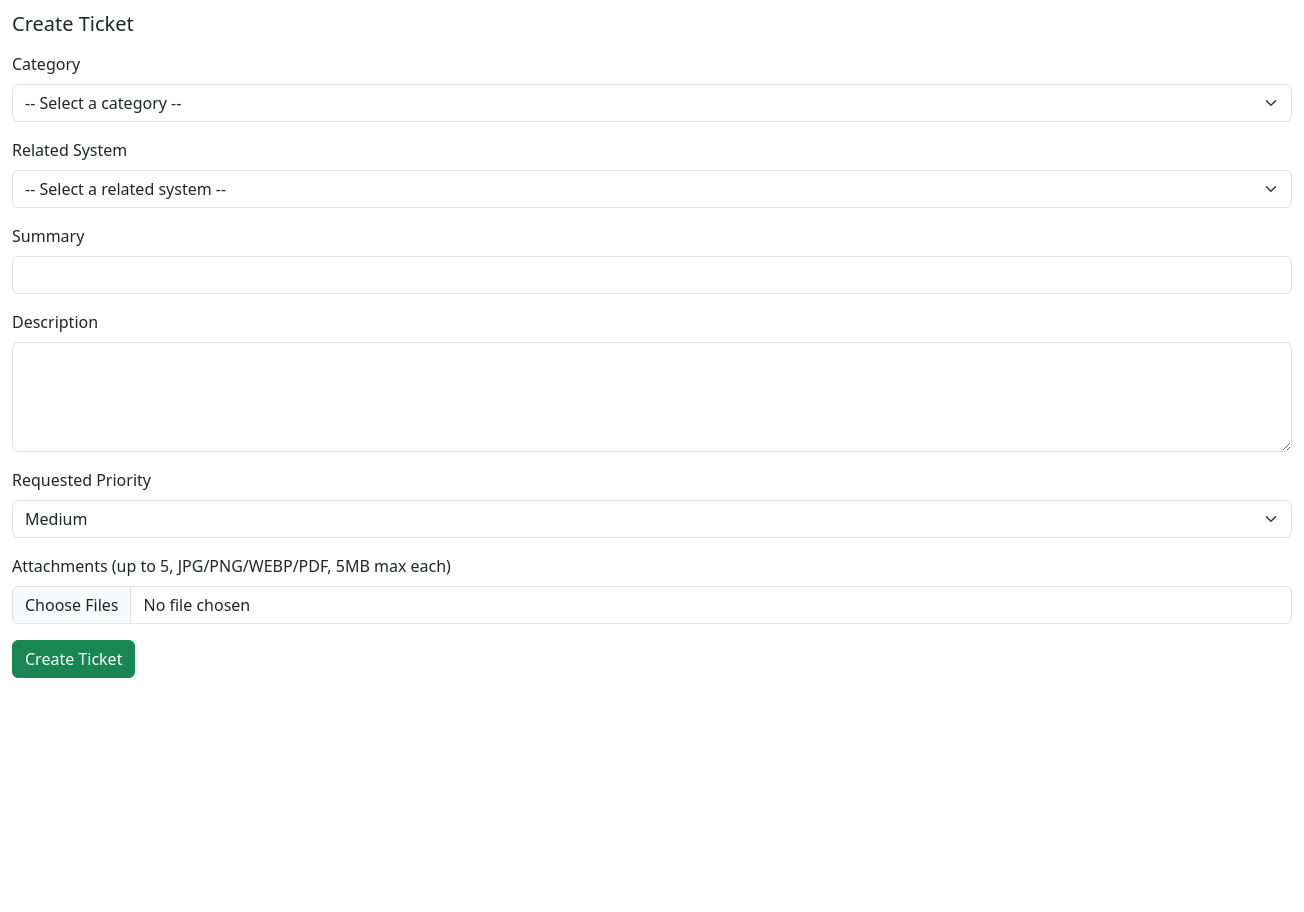
Test: CreateTicket › shows the ticket number on successful submit
Select "Hardware" in the dropdown with test id "create-ticket-category" at coordinates (652, 103), box [12,84,1292,122]
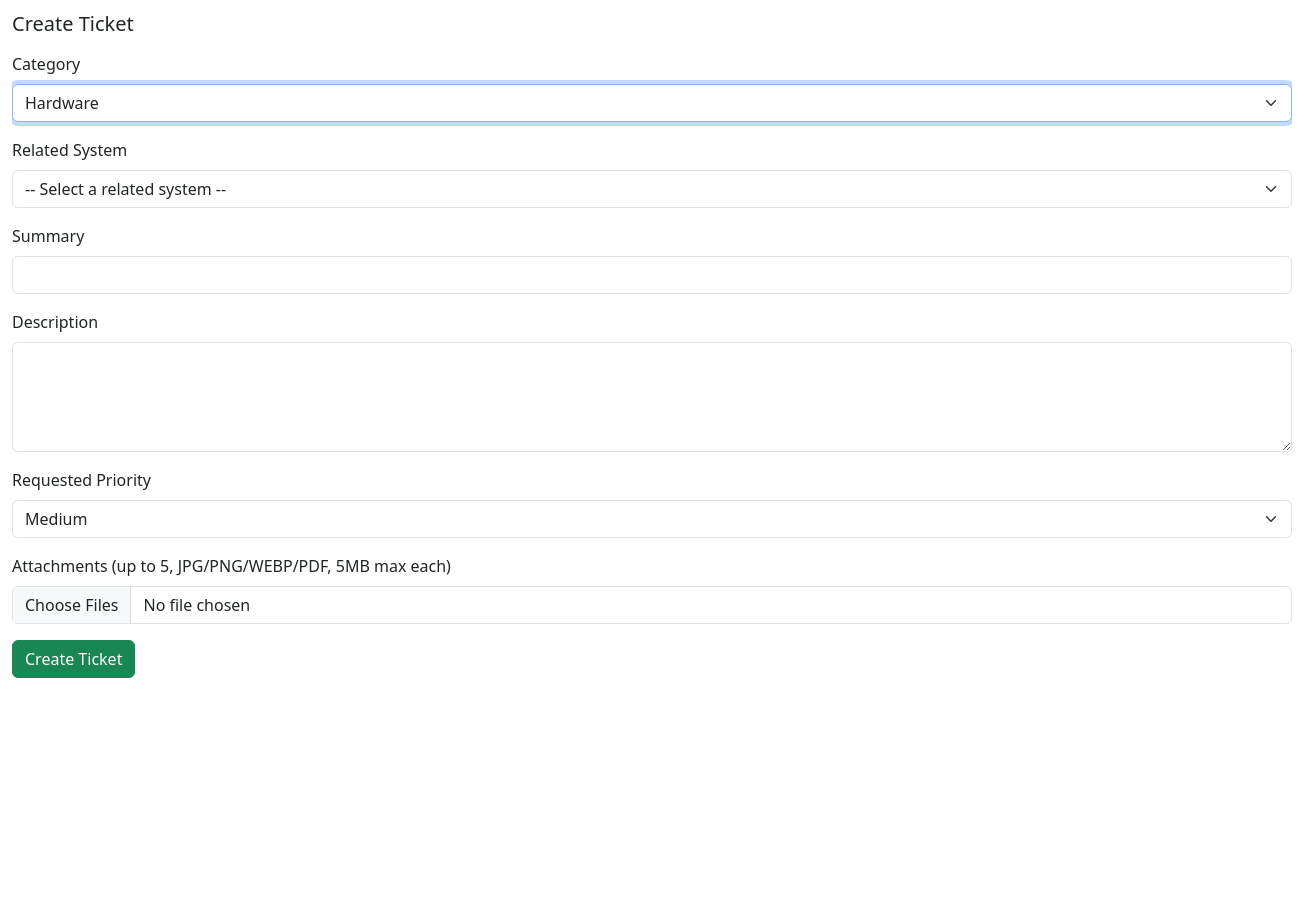
Select "Corporate Laptop" in the dropdown with test id "create-ticket-related-system" at coordinates (652, 189), box [12,170,1292,208]
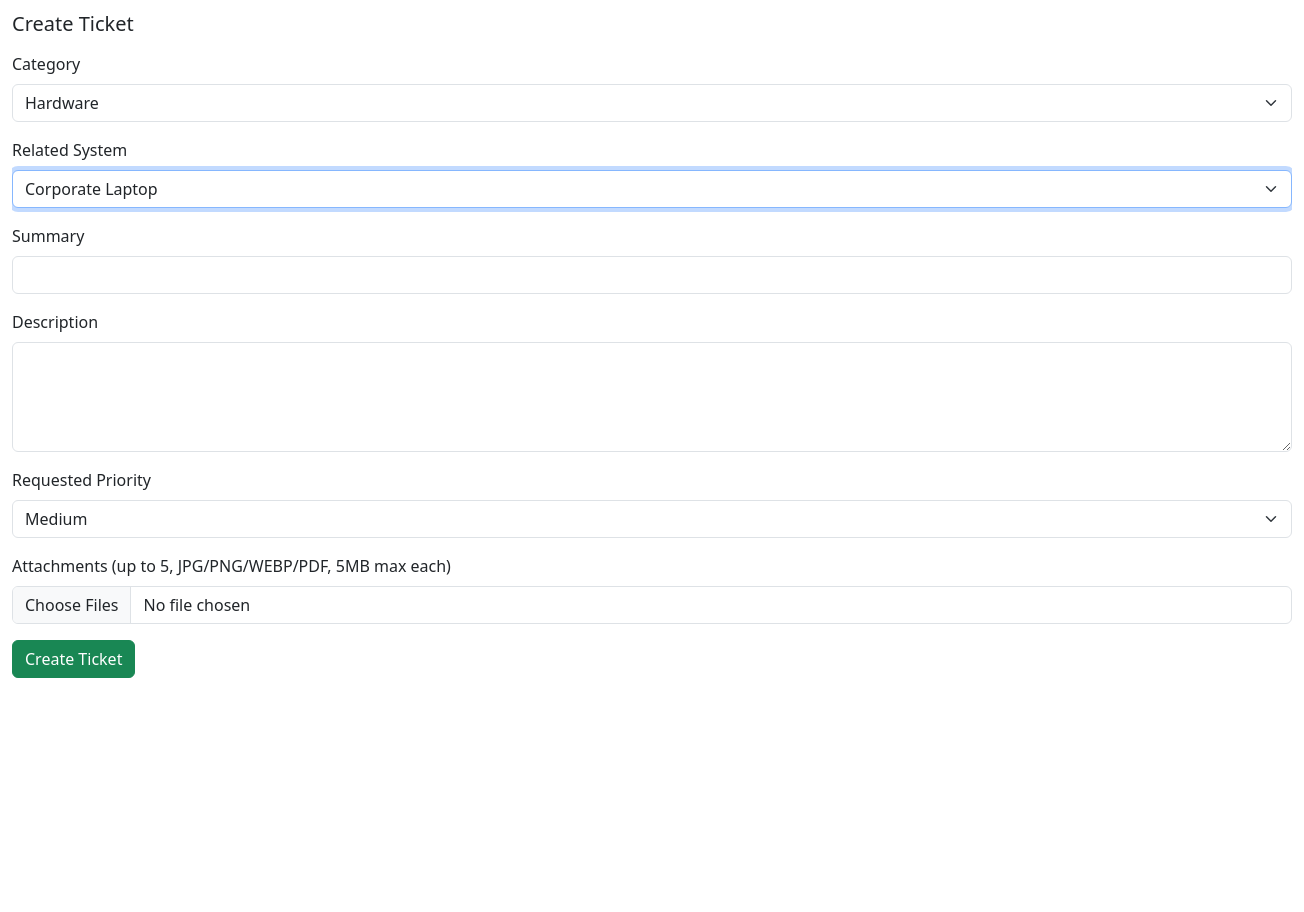
Type "Laptop won't turn on" into the field with test id "create-ticket-summary".
click(652, 275); type("Laptop won't turn on")  # box [12,256,1292,294]
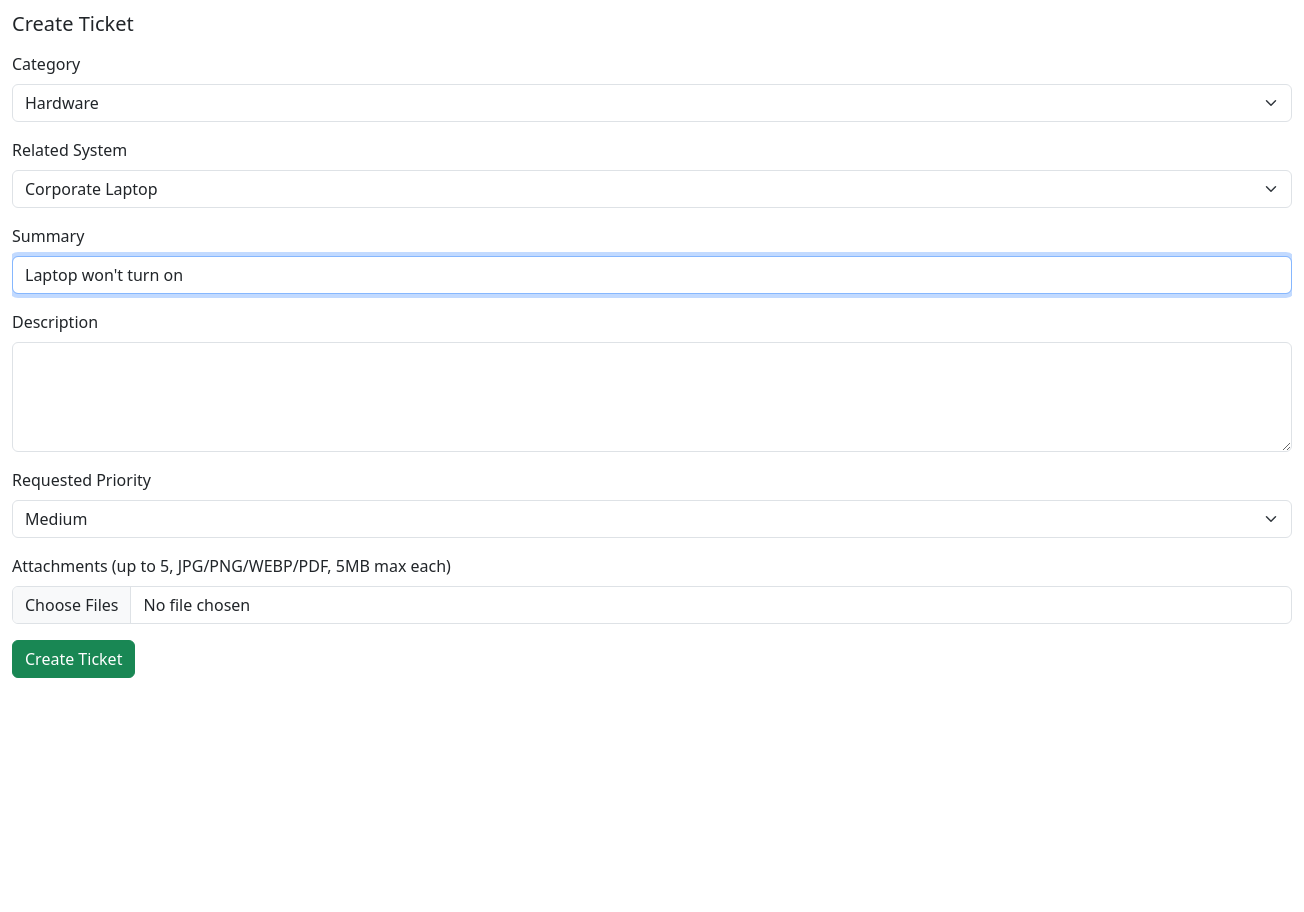
Type "A description long enough to pass validation." into the text box with test id "create-ticket-description".
click(652, 397); type("A description long enough to pass validation.")  # box [12,342,1292,452]
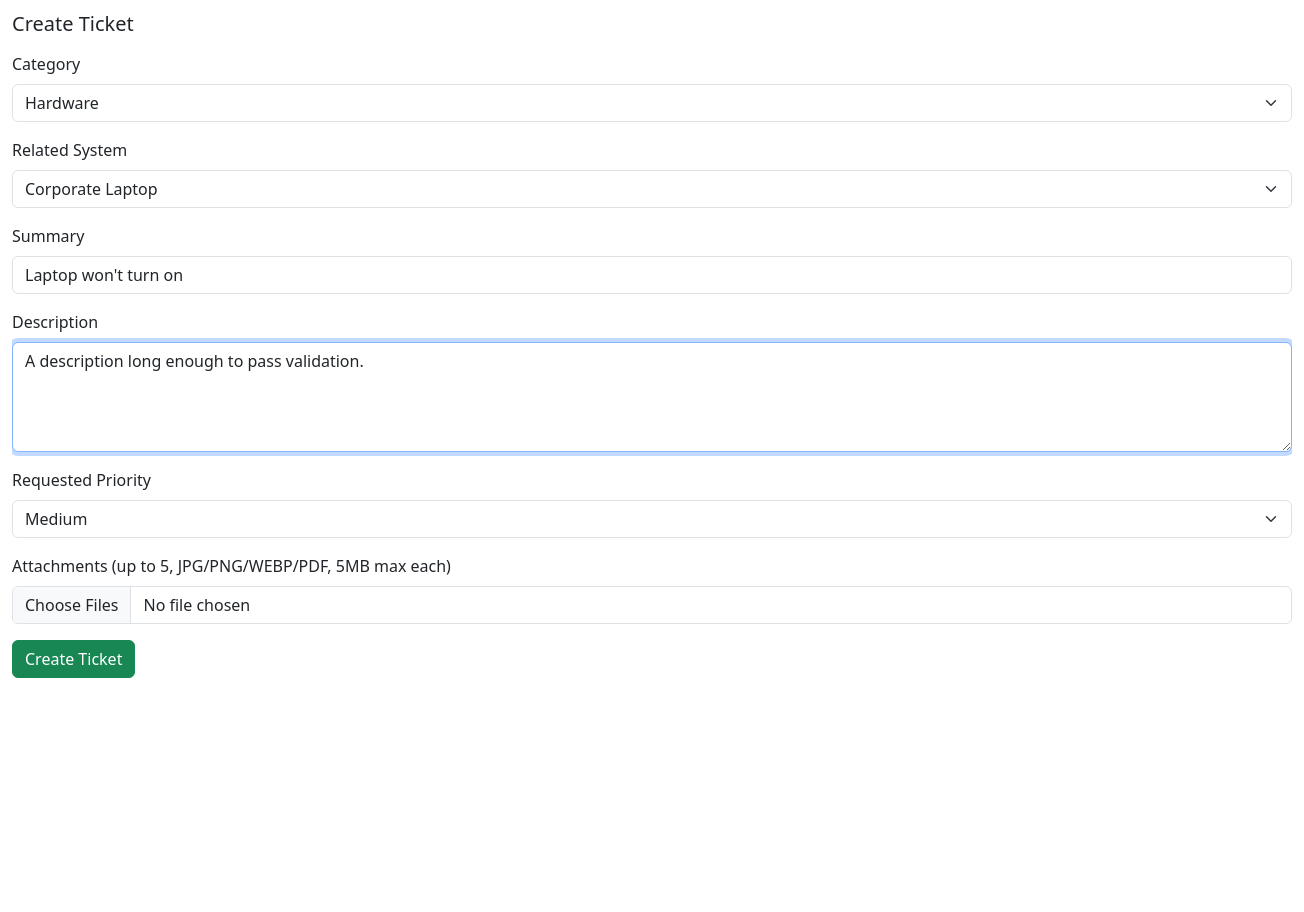
Click the button with test id "create-ticket-submit".
click(74, 659)  # box [12,640,135,678]
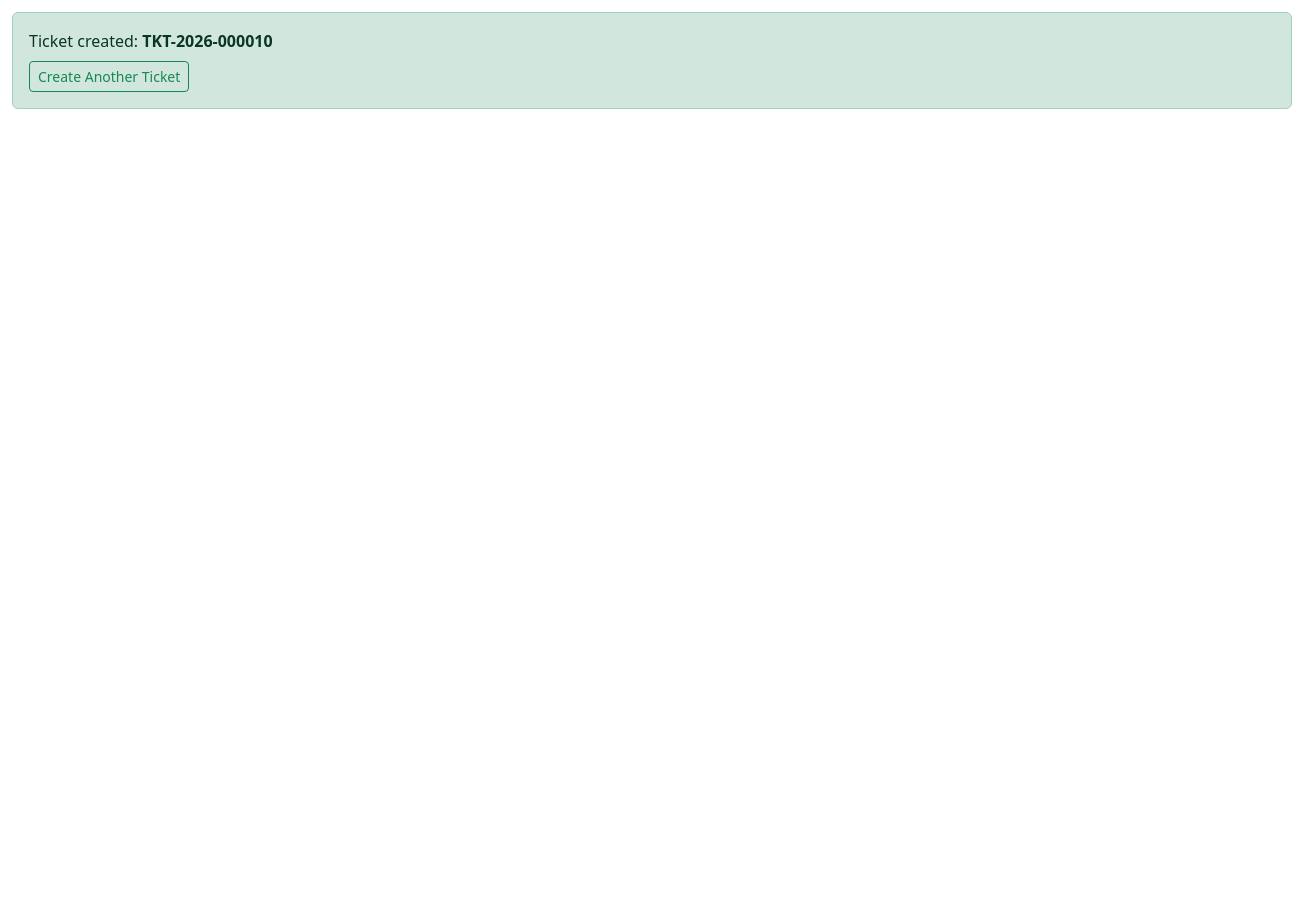
Expected: the element with test id "create-ticket-success" shows "TKT-2026-000010", [142,30,273,52]
